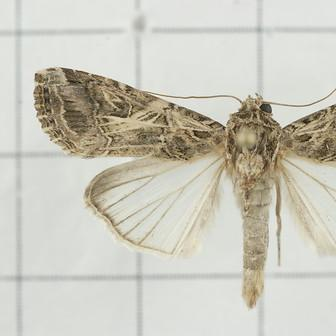Spodoptera litura: (33, 67, 336, 311)
